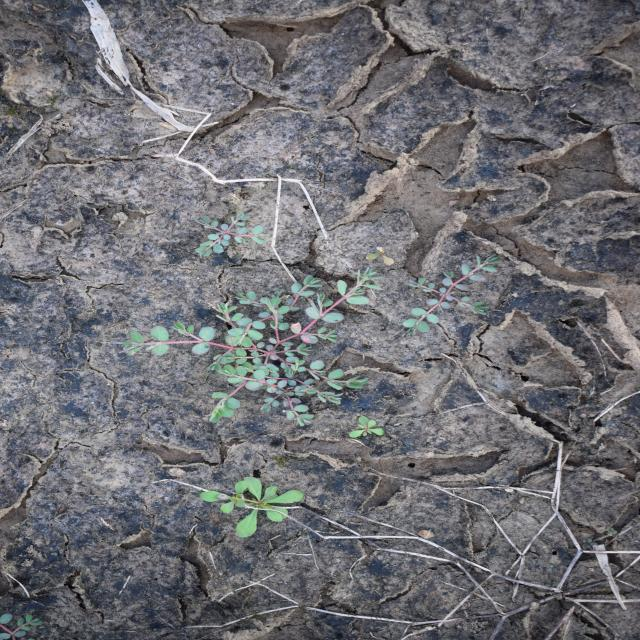Carpetweed: (197, 476, 307, 539)
SpottedSpurge: (114, 267, 386, 428), (401, 252, 503, 338), (192, 206, 271, 256)
